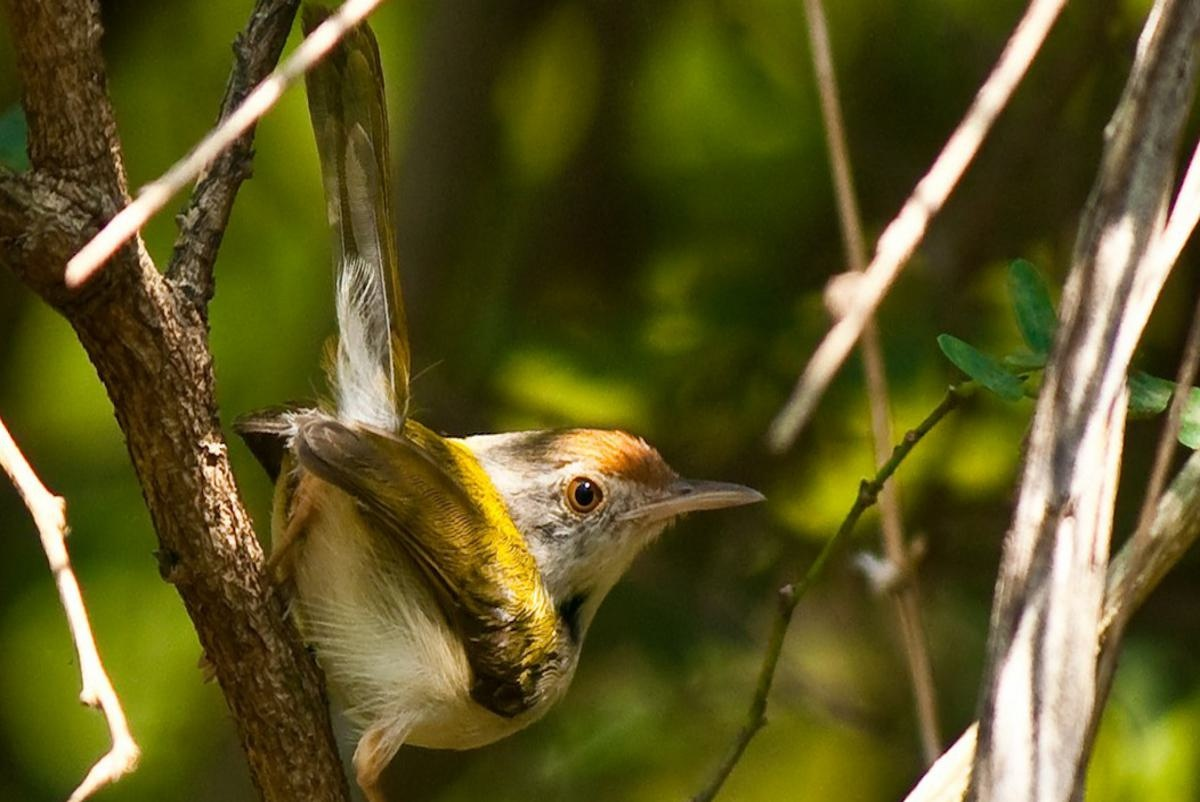tailorbird: (200, 171, 810, 766)
